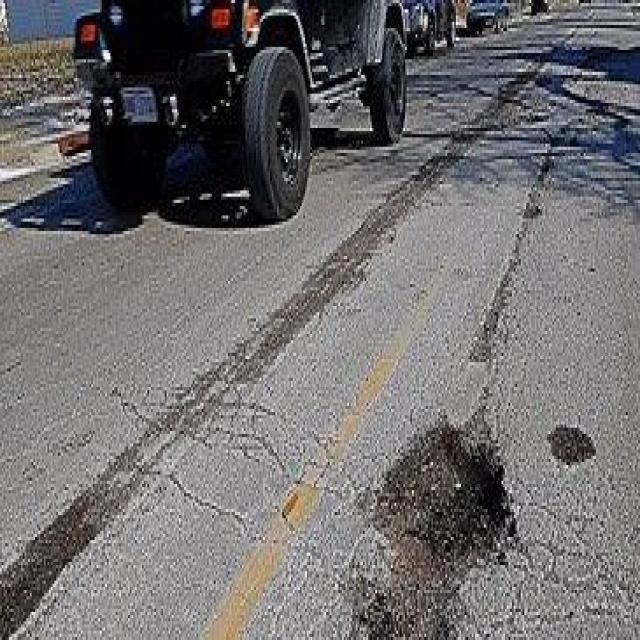jalan retak: (99, 360, 358, 554), (464, 87, 588, 372), (516, 461, 640, 640)
lubang: (338, 396, 532, 638), (540, 408, 606, 480)
